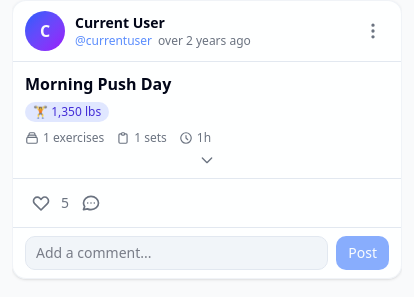
Test: FeedWorkoutCard › three-dot menu › should show "Delete workout" option only for own workouts
// Open the menu
Click the button named "More options" at (373, 31), box [357,15,389,47]
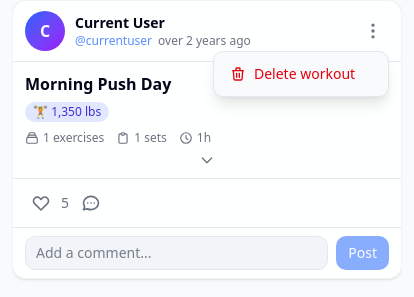
Expected: the button "Delete workout" is shown, [214,56,388,92]
